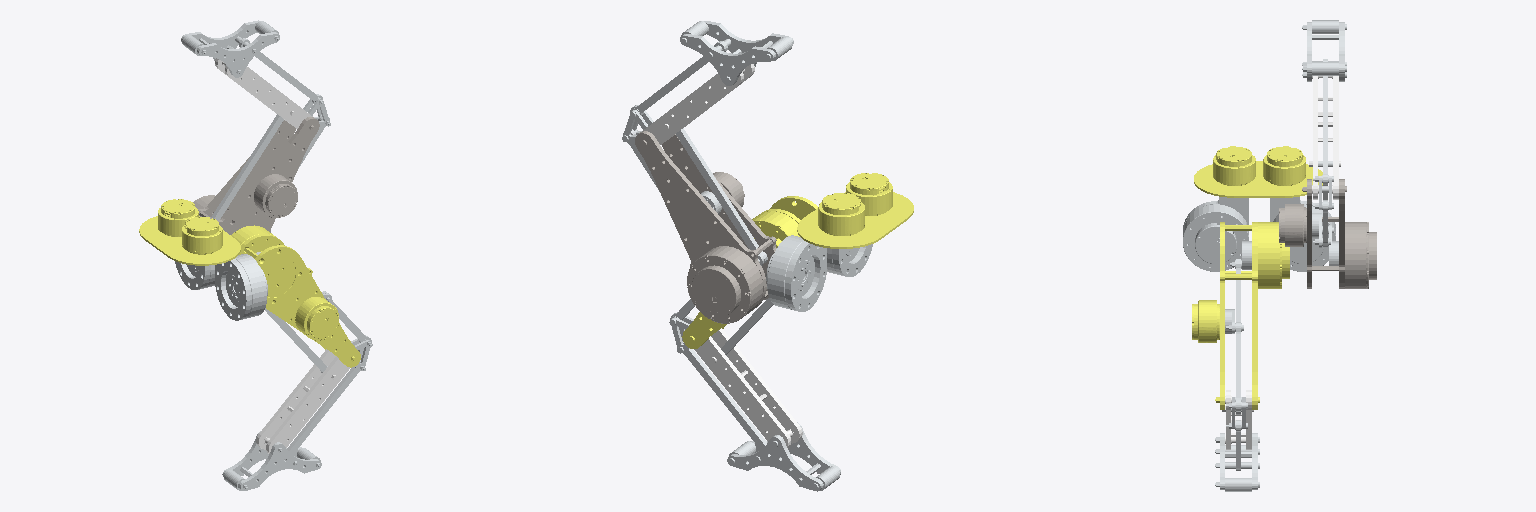
--- Render facts (derived) ---
3 views of the same robot in one strip: view 1: azimuth 30°, elevation 25°; view 2: azimuth 150°, elevation 25°; view 3: azimuth 270°, elevation 25° (orthographic).
Model Birobot2 with 29 links and 28 joints (28 revolute), rooted at base_link, posed every joint at zero.
Visible links, largest first — view 1: Rthigh_Link, Lthigh_Link, base_link, Rknee_Link0, Rhipyaw_Link, Lankle_Link0, Rankle_Link0, Lknee_Link0, Lknee_Link2, Rankle_Link4, Lhipyaw_Link, Lankle_Link4 (+1 smaller); view 2: Lthigh_Link, base_link, Rknee_Link0, Lhipyaw_Link, Lankle_Link0, Rankle_Link0, Rthigh_Link, Lknee_Link0, Lknee_Link2, Rankle_Link4, Rhipyaw_Link, Lankle_Link4 (+1 smaller); view 3: Rthigh_Link, base_link, Lthigh_Link, Rhipyaw_Link, Lankle_Link0, Rankle_Link0, Lknee_Link0, Lhipyaw_Link, Rknee_Link0, Lankle_Link4.
Boxes of the visible links, <box> form: Rthigh_Link: <box>231,225,360,367</box>; Lthigh_Link: <box>193,117,319,234</box>; base_link: <box>139,199,240,265</box>; Rknee_Link0: <box>256,349,349,453</box>; Rhipyaw_Link: <box>215,254,267,320</box>; Lankle_Link0: <box>181,20,279,77</box>; Rankle_Link0: <box>222,431,321,490</box>; Lknee_Link0: <box>215,58,312,125</box>; Lknee_Link2: <box>211,114,283,219</box>; Rankle_Link4: <box>287,360,360,454</box>; Lhipyaw_Link: <box>175,261,214,289</box>; Lankle_Link4: <box>239,38,322,103</box>; Lthigh_Link: <box>635,131,776,323</box>; base_link: <box>797,173,913,248</box>; Rknee_Link0: <box>694,328,802,447</box>; Lhipyaw_Link: <box>766,235,826,311</box>; Lankle_Link0: <box>680,21,793,85</box>; Rankle_Link0: <box>727,422,840,491</box>; Rthigh_Link: <box>682,196,817,348</box>; Lknee_Link0: <box>642,64,754,144</box>; Lknee_Link2: <box>676,128,767,262</box>; Rankle_Link4: <box>683,342,766,449</box>; Rhipyaw_Link: <box>827,244,872,276</box>; Lankle_Link4: <box>630,41,727,115</box>; Rthigh_Link: <box>1192,222,1289,409</box>; base_link: <box>1194,146,1322,197</box>; Lthigh_Link: <box>1279,179,1376,288</box>; Rhipyaw_Link: <box>1183,197,1248,271</box>; Lankle_Link0: <box>1302,20,1346,81</box>; Rankle_Link0: <box>1215,433,1259,491</box>; Lknee_Link0: <box>1309,76,1340,199</box>; Lhipyaw_Link: <box>1270,197,1335,271</box>; Rknee_Link0: <box>1222,390,1253,449</box>; Lankle_Link4: <box>1322,59,1328,184</box>.
Size in the robot's own frame: 0.3627 by 0.286 by 0.708 metres.
27 mesh visuals loaded from 29 distinct referenced files (27 binary STL); not drawn: 2 (reference not matched to a file when rendering).

The robot description file, URDF, robot "Birobot2":
<?xml version="1.0" encoding="utf-8"?>
<!-- This URDF was automatically created by SolidWorks to URDF Exporter! Originally created by Stephen Brawner ([email redacted]) 
     Commit Version: 1.6.0-4-g7f85cfe  Build Version: 1.6.7995.38578
     For more information, please see http://wiki.ros.org/sw_urdf_exporter -->
<robot
  name="Birobot2">

  <mujoco>
        <compiler 
        meshdir="../meshes/" 
        balanceinertia="true" 
        discardvisual="false" />
  </mujoco>

  <link
    name="base_link">
    <inertial>
      <origin
        xyz="5.99390134053968E-06 1.37565863127936E-06 0.0134214731182759"
        rpy="0 0 0" />
      <mass
        value="0.258330708046415" />
      <inertia
        ixx="0.000205392717372447"
        ixy="5.72794785505961E-09"
        ixz="-8.13468143023676E-08"
        iyy="0.000124376821334119"
        iyz="4.71754114620172E-10"
        izz="0.000305396326492831" />
    </inertial>
    <visual>
      <origin
        xyz="0 0 0"
        rpy="0 0 0" />
      <geometry>
        <mesh
          filename="package://Birobot2/meshes/base_link.STL" />
      </geometry>
      <material
        name="">
        <color
          rgba="1 1 0.501960784313725 1" />
      </material>
    </visual>
    <collision>
      <origin
        xyz="0 0 0"
        rpy="0 0 0" />
      <geometry>
        <mesh
          filename="package://Birobot2/meshes/base_link.STL" />
      </geometry>
    </collision>
  </link>
  <link
    name="Lhipyaw_Link">
    <inertial>
      <origin
        xyz="0.0442799756260495 0.0202466396770671 -0.054610579727696"
        rpy="0 0 0" />
      <mass
        value="0.440038994494787" />
      <inertia
        ixx="0.000691886361443098"
        ixy="-3.18926036339536E-05"
        ixz="7.9122290714126E-05"
        iyy="0.000489817105992609"
        iyz="8.51715820057588E-05"
        izz="0.000365749264198211" />
    </inertial>
    <visual>
      <origin
        xyz="0 0 0"
        rpy="0 0 0" />
      <geometry>
        <mesh
          filename="package://Birobot2/meshes/Lhipyaw_Link.STL" />
      </geometry>
      <material
        name="">
        <color
          rgba="0.898039215686275 0.917647058823529 0.929411764705882 1" />
      </material>
    </visual>
    <collision>
      <origin
        xyz="0 0 0"
        rpy="0 0 0" />
      <geometry>
        <mesh
          filename="package://Birobot2/meshes/Lhipyaw_Link.STL" />
      </geometry>
    </collision>
  </link>
  <joint
    name="Lhipyaw_Joint"
    type="revolute">
    <origin
      xyz="0 0.0369999999999999 -0.000999999999999945"
      rpy="0 0 0" />
    <parent
      link="base_link" />
    <child
      link="Lhipyaw_Link" />
    <axis
      xyz="0 0 -1" />
    <limit
      lower="0"
      upper="0"
      effort="0"
      velocity="0" />
  </joint>
  <link
    name="Lhiproll_Link">
    <inertial>
      <origin
        xyz="-7.94460344659643E-05 0.0101870947775433 -0.0643986155760032"
        rpy="0 0 0" />
      <mass
        value="0.351538870619044" />
      <inertia
        ixx="0.00033009601708043"
        ixy="-2.69015433690005E-10"
        ixz="2.34450588623238E-07"
        iyy="0.000500024436537399"
        iyz="3.36497587994521E-07"
        izz="0.000205265136778919" />
    </inertial>
    <visual>
      <origin
        xyz="0 0 0"
        rpy="0 0 0" />
      <geometry>
        <mesh
          filename="package://Birobot2/meshes/Lhiproll_Link.STL" />
      </geometry>
      <material
        name="">
        <color
          rgba="1 1 1 1" />
      </material>
    </visual>
    <collision>
      <origin
        xyz="0 0 0"
        rpy="0 0 0" />
      <geometry>
        <mesh
          filename="package://Birobot2/meshes/Lhiproll_Link.STL" />
      </geometry>
    </collision>
  </link>
  <joint
    name="Lhiproll_Joint"
    type="revolute">
    <origin
      xyz="0.0424999999999998 0.0270000000000001 -0.0679999999999998"
      rpy="0 -1.5707963267949 0" />
    <parent
      link="Lhipyaw_Link" />
    <child
      link="Lhiproll_Link" />
    <axis
      xyz="0 0 -1" />
    <limit
      lower="0"
      upper="0"
      effort="0"
      velocity="0" />
  </joint>
  <link
    name="Lthigh_Link">
    <inertial>
      <origin
        xyz="-0.0313714075140075 -0.0398928694813062 -0.0418666617621862"
        rpy="0 0 0" />
      <mass
        value="0.881225242840738" />
      <inertia
        ixx="0.00184566747511136"
        ixy="-0.00110239593138809"
        ixz="8.85130741105728E-07"
        iyy="0.00134920782992085"
        iyz="1.09468000794382E-06"
        izz="0.00313386862508158" />
    </inertial>
    <visual>
      <origin
        xyz="0 0 0"
        rpy="0 0 0" />
      <geometry>
        <mesh
          filename="package://Birobot2/meshes/Lthigh_Link.STL" />
      </geometry>
      <material
        name="">
        <color
          rgba="0.776470588235294 0.756862745098039 0.737254901960784 1" />
      </material>
    </visual>
    <collision>
      <origin
        xyz="0 0 0"
        rpy="0 0 0" />
      <geometry>
        <mesh
          filename="package://Birobot2/meshes/Lthigh_Link.STL" />
      </geometry>
    </collision>
  </link>
  <joint
    name="Lthigh_Joint"
    type="revolute">
    <origin
      xyz="0 -0.000166954779692381 -0.0772201496052748"
      rpy="1.5707963267949 -1.5707963267949 0" />
    <parent
      link="Lhiproll_Link" />
    <child
      link="Lthigh_Link" />
    <axis
      xyz="0 0 -1" />
    <limit
      lower="0"
      upper="0"
      effort="0"
      velocity="0" />
  </joint>
  <link
    name="Lknee_Link0">
    <inertial>
      <origin
        xyz="5.55111512312578E-17 0.0913612730101381 -0.0200012432084049"
        rpy="0 0 0" />
      <mass
        value="0.22379773991973" />
      <inertia
        ixx="0.000632927279636257"
        ixy="1.56828304152738E-07"
        ixz="2.92198815384956E-21"
        iyy="1.61549725403257E-05"
        iyz="-1.59879090618596E-19"
        izz="0.000645485415004075" />
    </inertial>
    <visual>
      <origin
        xyz="0 0 0"
        rpy="0 0 0" />
      <geometry>
        <mesh
          filename="package://Birobot2/meshes/Lknee_Link0.STL" />
      </geometry>
      <material
        name="">
        <color
          rgba="1 1 1 1" />
      </material>
    </visual>
    <collision>
      <origin
        xyz="0 0 0"
        rpy="0 0 0" />
      <geometry>
        <mesh
          filename="package://Birobot2/meshes/Lknee_Link0.STL" />
      </geometry>
    </collision>
  </link>
  <joint
    name="Lknee_Joint0"
    type="revolute">
    <origin
      xyz="-0.135596853600906 -0.170697080506769 -0.0531660904406152"
      rpy="3.14159265358979 0 0.803668194526438" />
    <parent
      link="Lthigh_Link" />
    <child
      link="Lknee_Link0" />
    <axis
      xyz="0 0 -1" />
    <limit
      lower="0"
      upper="0"
      effort="0"
      velocity="0" />
  </joint>
  <link
    name="Lankle_Link0">
    <inertial>
      <origin
        xyz="-0.0231596276959213 0.0212536250305395 -0.0200325883655559"
        rpy="0 0 0" />
      <mass
        value="0.18428359031599" />
      <inertia
        ixx="0.000117881352090235"
        ixy="-6.79775348356106E-05"
        ixz="4.65230337755936E-20"
        iyy="9.83454687660767E-05"
        iyz="2.52513224568675E-20"
        izz="0.000200626794325498" />
    </inertial>
    <visual>
      <origin
        xyz="0 0 0"
        rpy="0 0 0" />
      <geometry>
        <mesh
          filename="package://Birobot2/meshes/Lankle_Link0.STL" />
      </geometry>
      <material
        name="">
        <color
          rgba="0.898039215686275 0.917647058823529 0.929411764705882 1" />
      </material>
    </visual>
    <collision>
      <origin
        xyz="0 0 0"
        rpy="0 0 0" />
      <geometry>
        <mesh
          filename="package://Birobot2/meshes/Lankle_Link0.STL" />
      </geometry>
    </collision>
  </link>
  <joint
    name="Lankle_Joint0"
    type="revolute">
    <origin
      xyz="0 0.18 0"
      rpy="0 0 0" />
    <parent
      link="Lknee_Link0" />
    <child
      link="Lankle_Link0" />
    <axis
      xyz="0 0 -1" />
    <limit
      lower="0"
      upper="0"
      effort="0"
      velocity="0" />
  </joint>
  <link
    name="Lknee_Link1">
    <inertial>
      <origin
        xyz="-0.00439333540277499 -0.00125394710836006 -0.0113498370878502"
        rpy="0 0 0" />
      <mass
        value="0.0636115148670426" />
      <inertia
        ixx="1.09281100967918E-05"
        ixy="-1.81849121120284E-06"
        ixz="-1.70837071103934E-06"
        iyy="1.67803507539777E-05"
        iyz="-4.87603680739178E-07"
        izz="2.29402864022895E-05" />
    </inertial>
    <visual>
      <origin
        xyz="0 0 0"
        rpy="0 0 0" />
      <geometry>
        <mesh
          filename="package://Birobot2/meshes/Lknee_Link1.STL" />
      </geometry>
      <material
        name="">
        <color
          rgba="0.898039215686275 0.917647058823529 0.929411764705882 1" />
      </material>
    </visual>
    <collision>
      <origin
        xyz="0 0 0"
        rpy="0 0 0" />
      <geometry>
        <mesh
          filename="package://Birobot2/meshes/Lknee_Link1.STL" />
      </geometry>
    </collision>
  </link>
  <joint
    name="Lknee_Joint1"
    type="revolute">
    <origin
      xyz="0 0 -0.0586660904406152"
      rpy="-3.14159265358979 0 2.65249236104811" />
    <parent
      link="Lthigh_Link" />
    <child
      link="Lknee_Link1" />
    <axis
      xyz="0 0 -1" />
    <limit
      lower="0"
      upper="0"
      effort="0"
      velocity="0" />
  </joint>
  <link
    name="Lknee_Link2">
    <inertial>
      <origin
        xyz="0.101626362064937 -0.0229385974251411 0.000999999999999994"
        rpy="0 0 0" />
      <mass
        value="0.0607220251317532" />
      <inertia
        ixx="1.30341920335388E-05"
        ixy="5.33635937633788E-05"
        ixz="5.04395202149566E-20"
        iyy="0.000237409431624889"
        iyz="-1.1879301950546E-20"
        izz="0.000249838377270734" />
    </inertial>
    <visual>
      <origin
        xyz="0 0 0"
        rpy="0 0 0" />
      <geometry>
        <mesh
          filename="package://Birobot2/meshes/Lknee_Link2.STL" />
      </geometry>
      <material
        name="">
        <color
          rgba="0.898039215686275 0.917647058823529 0.929411764705882 1" />
      </material>
    </visual>
    <collision>
      <origin
        xyz="0 0 0"
        rpy="0 0 0" />
      <geometry>
        <mesh
          filename="package://Birobot2/meshes/Lknee_Link2.STL" />
      </geometry>
    </collision>
  </link>
  <joint
    name="Lknee_Joint2"
    type="revolute">
    <origin
      xyz="-0.0384639434646877 -0.0109783902802425 -0.0245"
      rpy="-3.14159265358979 0 -1.610592190996" />
    <parent
      link="Lknee_Link1" />
    <child
      link="Lknee_Link2" />
    <axis
      xyz="0 0 -1" />
    <limit
      lower="0"
      upper="0"
      effort="0"
      velocity="0" />
  </joint>
  <link
    name="Lknee_Link00">
    <inertial>
      <origin
        xyz="-2.22044604925031E-16 0.0560137350752595 -0.00401510689070324"
        rpy="0 0 0" />
      <mass
        value="0.212545654592" />
      <inertia
        ixx="0.000632625900754351"
        ixy="1.5682830415276E-07"
        ixz="2.9139717748976E-21"
        iyy="1.58535936584198E-05"
        iyz="-7.84167787566113E-22"
        izz="0.000645279471593949" />
    </inertial>
    <visual>
      <origin
        xyz="0 0 0"
        rpy="0 0 0" />
      <geometry>
        <mesh
          filename="package://Birobot2/meshes/Lknee_Link00.STL" />
      </geometry>
      <material
        name="">
        <color
          rgba="1 1 1 1" />
      </material>
    </visual>
    <collision>
      <origin
        xyz="0 0 0"
        rpy="0 0 0" />
      <geometry>
        <mesh
          filename="package://Birobot2/meshes/Lknee_Link00.STL" />
      </geometry>
    </collision>
  </link>
  <joint
    name="Lknee_Joint00"
    type="revolute">
    <origin
      xyz="0.212650314510188 -0.047998372250716 -0.00300000000000002"
      rpy="-3.14159265358979 0 2.82376894966191" />
    <parent
      link="Lknee_Link2" />
    <child
      link="Lknee_Link00" />
    <axis
      xyz="0 0 1" />
    <limit
      lower="0"
      upper="0"
      effort="0"
      velocity="0" />
  </joint>
  <link
    name="Lankle_Link34">
    <inertial>
      <origin
        xyz="-0.0204093624761537 -0.0112560684225899 -0.0200816798037087"
        rpy="0 0 0" />
      <mass
        value="0.0264310864589234" />
      <inertia
        ixx="3.97096074542198E-06"
        ixy="1.05879118406788E-20"
        ixz="-1.47573508041707E-21"
        iyy="3.97096074542198E-06"
        iyz="-9.64137851562625E-24"
        izz="7.59890052735323E-06" />
    </inertial>
    <visual>
      <origin
        xyz="0 0 0"
        rpy="0 0 0" />
      <geometry>
        <mesh
          filename="package://Birobot2/meshes/Lankle_Link34.STL" />
      </geometry>
      <material
        name="">
        <color
          rgba="0.898039215686275 0.917647058823529 0.929411764705882 1" />
      </material>
    </visual>
    <collision>
      <origin
        xyz="0 0 0"
        rpy="0 0 0" />
      <geometry>
        <mesh
          filename="package://Birobot2/meshes/Lankle_Link34.STL" />
      </geometry>
    </collision>
  </link>
  <joint
    name="Lankle_Joint34"
    type="revolute">
    <origin
      xyz="-0.135596853600906 -0.170697080506769 -0.0531660904406152"
      rpy="3.14159265358979 0 0.803668194526438" />
    <parent
      link="Lthigh_Link" />
    <child
      link="Lankle_Link34" />
    <axis
      xyz="0 0 -1" />
    <limit
      lower="0"
      upper="0"
      effort="0"
      velocity="0" />
  </joint>
  <link
    name="Lankle_Link1">
    <inertial>
      <origin
        xyz="0.00497530862523779 0.00135108879007165 -0.0123696487398572"
        rpy="0 0 0" />
      <mass
        value="0.0567948015231428" />
      <inertia
        ixx="8.35459871318398E-06"
        ixy="-1.69026023786498E-06"
        ixz="1.84867561298549E-06"
        iyy="1.41198821303684E-05"
        iyz="5.02024112537162E-07"
        izz="1.75229955675705E-05" />
    </inertial>
    <visual>
      <origin
        xyz="0 0 0"
        rpy="0 0 0" />
      <geometry>
        <mesh
          filename="package://Birobot2/meshes/Lankle_Link1.STL" />
      </geometry>
      <material
        name="">
        <color
          rgba="0.898039215686275 0.917647058823529 0.929411764705882 1" />
      </material>
    </visual>
    <collision>
      <origin
        xyz="0 0 0"
        rpy="0 0 0" />
      <geometry>
        <mesh
          filename="package://Birobot2/meshes/Lankle_Link1.STL" />
      </geometry>
    </collision>
  </link>
  <joint
    name="Lankle_Joint1"
    type="revolute">
    <origin
      xyz="-0.0622003915600487 -0.0783014130764995 -0.00616609044061522"
      rpy="0 0 2.65249236104811" />
    <parent
      link="Lthigh_Link" />
    <child
      link="Lankle_Link1" />
    <axis
      xyz="0 0 -1" />
    <limit
      lower="0"
      upper="0"
      effort="0"
      velocity="0" />
  </joint>
  <link
    name="Lankle_Link2">
    <inertial>
      <origin
        xyz="-0.0451240377309678 -0.0380108039753531 0.00100000000000001"
        rpy="0 0 0" />
      <mass
        value="0.0400054950366333" />
      <inertia
        ixx="1.7569895782706E-05"
        ixy="-2.00745668554044E-05"
        ixz="-1.3629548140825E-20"
        iyy="2.44910946664815E-05"
        iyz="-1.14528951036416E-20"
        izz="4.17150522558605E-05" />
    </inertial>
    <visual>
      <origin
        xyz="0 0 0"
        rpy="0 0 0" />
      <geometry>
        <mesh
          filename="package://Birobot2/meshes/Lankle_Link2.STL" />
      </geometry>
      <material
        name="">
        <color
          rgba="0.898039215686275 0.917647058823529 0.929411764705882 1" />
      </material>
    </visual>
    <collision>
      <origin
        xyz="0 0 0"
        rpy="0 0 0" />
      <geometry>
        <mesh
          filename="package://Birobot2/meshes/Lankle_Link2.STL" />
      </geometry>
    </collision>
  </link>
  <joint
    name="Lankle_Joint2"
    type="revolute">
    <origin
      xyz="0.0386019799331064 0.0104827069616605 -0.026"
      rpy="3.14159265358979 0 -1.05295193254627" />
    <parent
      link="Lankle_Link1" />
    <child
      link="Lankle_Link2" />
    <axis
      xyz="0 0 -1" />
    <limit
      lower="0"
      upper="0"
      effort="0"
      velocity="0" />
  </joint>
  <link
    name="Lankle_Link3">
    <inertial>
      <origin
        xyz="-0.0116537671271683 0.0198150832361688 0.000918320196291303"
        rpy="0 0 0" />
      <mass
        value="0.0264310864589234" />
      <inertia
        ixx="3.97096074542197E-06"
        ixy="6.14098886759368E-21"
        ixz="1.84121443092571E-21"
        iyy="3.97096074542198E-06"
        iyz="-6.63334986171782E-22"
        izz="7.59890052735323E-06" />
    </inertial>
    <visual>
      <origin
        xyz="0 0 0"
        rpy="0 0 0" />
      <geometry>
        <mesh
          filename="package://Birobot2/meshes/Lankle_Link3.STL" />
      </geometry>
      <material
        name="">
        <color
          rgba="0.898039215686275 0.917647058823529 0.929411764705882 1" />
      </material>
    </visual>
    <collision>
      <origin
        xyz="0 0 0"
        rpy="0 0 0" />
      <geometry>
        <mesh
          filename="package://Birobot2/meshes/Lankle_Link3.STL" />
      </geometry>
    </collision>
  </link>
  <joint
    name="Lankle_Joint3"
    type="revolute">
    <origin
      xyz="-0.0902480754619956 -0.0760216079506738 0"
      rpy="0 0 0.252680255142078" />
    <parent
      link="Lankle_Link2" />
    <child
      link="Lankle_Link3" />
    <axis
      xyz="0 0 -1" />
    <limit
      lower="0"
      upper="0"
      effort="0"
      velocity="0" />
  </joint>
  <link
    name="Lankle_Link4">
    <inertial>
      <origin
        xyz="-0.0404235884266395 -0.0732955449284946 0.00100000000000001"
        rpy="0 0 0" />
      <mass
        value="0.0501454226790875" />
      <inertia
        ixx="0.000110602880940475"
        ixy="-6.05495642128705E-05"
        ixz="1.39198841140206E-20"
        iyy="3.42091580202111E-05"
        iyz="2.46784788669294E-20"
        izz="0.000144317547995641" />
    </inertial>
    <visual>
      <origin
        xyz="0 0 0"
        rpy="0 0 0" />
      <geometry>
        <mesh
          filename="package://Birobot2/meshes/Lankle_Link4.STL" />
      </geometry>
      <material
        name="">
        <color
          rgba="0.898039215686275 0.917647058823529 0.929411764705882 1" />
      </material>
    </visual>
    <collision>
      <origin
        xyz="0 0 0"
        rpy="0 0 0" />
      <geometry>
        <mesh
          filename="package://Birobot2/meshes/Lankle_Link4.STL" />
      </geometry>
    </collision>
  </link>
  <joint
    name="Lankle_Joint4"
    type="revolute">
    <origin
      xyz="-0.0346410161513776 0.0200000000000001 0"
      rpy="0 0 -2.0943951023932" />
    <parent
      link="Lankle_Link3" />
    <child
      link="Lankle_Link4" />
    <axis
      xyz="0 0 -1" />
    <limit
      lower="0"
      upper="0"
      effort="0"
      velocity="0" />
  </joint>
  <link
    name="Lankle_Link00">
    <inertial>
      <origin
        xyz="0.0168326946774392 0.0204699470448799 0.00396741163444413"
        rpy="0 0 0" />
      <mass
        value="0.18428359031599" />
      <inertia
        ixx="0.000117881352090235"
        ixy="-6.79775348356106E-05"
        ixz="7.26896733291044E-20"
        iyy="9.83454687660767E-05"
        iyz="6.46242882021946E-20"
        izz="0.000200626794325498" />
    </inertial>
    <visual>
      <origin
        xyz="0 0 0"
        rpy="0 0 0" />
      <geometry>
        <mesh
          filename="package://Birobot2/meshes/Lankle_Link00.STL" />
      </geometry>
      <material
        name="">
        <color
          rgba="0.898039215686275 0.917647058823529 0.929411764705882 1" />
      </material>
    </visual>
    <collision>
      <origin
        xyz="0 0 0"
        rpy="0 0 0" />
      <geometry>
        <mesh
          filename="package://Birobot2/meshes/Lankle_Link00.STL" />
      </geometry>
    </collision>
  </link>
  <joint
    name="Lankle_Joint00"
    type="revolute">
    <origin
      xyz="-0.0869286426422058 -0.157617927560235 -0.00299999999999988"
      rpy="0 0 2.63758708122652" />
    <parent
      link="Lankle_Link4" />
    <child
      link="Lankle_Link00" />
    <axis
      xyz="0 0 -1" />
    <limit
      lower="0"
      upper="0"
      effort="0"
      velocity="0" />
  </joint>
  <link
    name="Rhipyaw_Link">
    <inertial>
      <origin
        xyz="0.0442799805671885 -0.0202555367839449 -0.0546054524894954"
        rpy="0 0 0" />
      <mass
        value="0.440038842475869" />
      <inertia
        ixx="0.000691886302275348"
        ixy="3.19656422669199E-05"
        ixz="7.90801283968309E-05"
        iyy="0.000489769895861423"
        iyz="-8.51988313496433E-05"
        izz="0.00036579641079241" />
    </inertial>
    <visual>
      <origin
        xyz="0 0 0"
        rpy="0 0 0" />
      <geometry>
        <mesh
          filename="package://Birobot2/meshes/Rhipyaw_Link.STL" />
      </geometry>
      <material
        name="">
        <color
          rgba="0.898039215686275 0.917647058823529 0.929411764705882 1" />
      </material>
    </visual>
    <collision>
      <origin
        xyz="0 0 0"
        rpy="0 0 0" />
      <geometry>
        <mesh
          filename="package://Birobot2/meshes/Rhipyaw_Link.STL" />
      </geometry>
    </collision>
  </link>
  <joint
    name="Rhipyaw_Joint"
    type="revolute">
    <origin
      xyz="0 -0.0370000000000002 -0.00100000000000017"
      rpy="0 0 0" />
    <parent
      link="base_link" />
    <child
      link="Rhipyaw_Link" />
    <axis
      xyz="0 0 -1" />
    <limit
      lower="0"
      upper="0"
      effort="0"
      velocity="0" />
  </joint>
  <link
    name="Rhiproll_Link">
    <inertial>
      <origin
        xyz="-7.11487427006384E-05 -0.0101870948289008 -0.0644084313705051"
        rpy="0 0 0" />
      <mass
        value="0.35153887139329" />
      <inertia
        ixx="0.000330042307674053"
        ixy="5.49035174286966E-08"
        ixz="2.43152307240281E-07"
        iyy="0.00050002443656033"
        iyz="-4.00865262176402E-07"
        izz="0.000205318846208455" />
    </inertial>
    <visual>
      <origin
        xyz="0 0 0"
        rpy="0 0 0" />
      <geometry>
        <mesh
          filename="package://Birobot2/meshes/Rhiproll_Link.STL" />
      </geometry>
      <material
        name="">
        <color
          rgba="1 1 1 1" />
      </material>
    </visual>
    <collision>
      <origin
        xyz="0 0 0"
        rpy="0 0 0" />
      <geometry>
        <mesh
          filename="package://Birobot2/meshes/Rhiproll_Link.STL" />
      </geometry>
    </collision>
  </link>
  <joint
    name="Rhiproll_Joint"
    type="revolute">
    <origin
      xyz="0.0424999999999994 -0.0269999999999998 -0.0679999999999999"
      rpy="0 -1.5707963267949 0" />
    <parent
      link="Rhipyaw_Link" />
    <child
      link="Rhiproll_Link" />
    <axis
      xyz="0 0 -1" />
    <limit
      lower="0"
      upper="0"
      effort="0"
      velocity="0" />
  </joint>
  <link
    name="Rthigh_Link">
    <inertial>
      <origin
        xyz="-0.0314575352195419 0.0398844834664672 -0.0418687215471447"
        rpy="0 0 0" />
      <mass
        value="0.881225241274488" />
      <inertia
        ixx="0.00184547388254446"
        ixy="0.00110337408653132"
        ixz="1.30206678759569E-06"
        iyy="0.00134940142236214"
        iyz="-1.14077155598705E-06"
        izz="0.0031338686249956" />
    </inertial>
    <visual>
      <origin
        xyz="0 0 0"
        rpy="0 0 0" />
      <geometry>
        <mesh
          filename="package://Birobot2/meshes/Rthigh_Link.STL" />
      </geometry>
      <material
        name="">
        <color
          rgba="1 1 0.501960784313725 1" />
      </material>
    </visual>
    <collision>
      <origin
        xyz="0 0 0"
        rpy="0 0 0" />
      <geometry>
        <mesh
          filename="package://Birobot2/meshes/Rthigh_Link.STL" />
      </geometry>
    </collision>
  </link>
  <joint
    name="Rthigh_Joint"
    type="revolute">
    <origin
      xyz="0 0.000166954779692419 -0.0772201496052745"
      rpy="1.5707963267949 -1.5707963267949 0" />
    <parent
      link="Rhiproll_Link" />
    <child
      link="Rthigh_Link" />
    <axis
      xyz="0 0 -1" />
    <limit
      lower="0"
      upper="0"
      effort="0"
      velocity="0" />
  </joint>
  <link
    name="Rknee_Link0">
    <inertial>
      <origin
        xyz="0 -0.0913612730101381 -0.0200012432084048"
        rpy="0 0 0" />
      <mass
        value="0.22379773991973" />
      <inertia
        ixx="0.000632927279636257"
        ixy="1.56828306381712E-07"
        ixz="1.71625643798278E-21"
        iyy="1.61549725403256E-05"
        iyz="1.59496728221719E-19"
        izz="0.000645485415004075" />
    </inertial>
    <visual>
      <origin
        xyz="0 0 0"
        rpy="0 0 0" />
      <geometry>
        <mesh
          filename="package://Birobot2/meshes/Rknee_Link0.STL" />
      </geometry>
      <material
        name="">
        <color
          rgba="1 1 1 1" />
      </material>
    </visual>
    <collision>
      <origin
        xyz="0 0 0"
        rpy="0 0 0" />
      <geometry>
        <mesh
          filename="package://Birobot2/meshes/Rknee_Link0.STL" />
      </geometry>
    </collision>
  </link>
  <joint
    name="Rknee_Joint0"
    type="revolute">
    <origin
      xyz="-0.135596853600907 0.170697080506769 -0.0531660904406152"
      rpy="-3.14159265358979 0 -0.803668194526438" />
    <parent
      link="Rthigh_Link" />
    <child
      link="Rknee_Link0" />
    <axis
      xyz="0 0 -1" />
    <limit
      lower="0"
      upper="0"
      effort="0"
      velocity="0" />
  </joint>
  <link
    name="Rankle_Link0">
    <inertial>
      <origin
        xyz="-0.0231596276959213 -0.0212536250305394 -0.0200325883655559"
        rpy="0 0 0" />
      <mass
        value="0.18428359031599" />
      <inertia
        ixx="0.000117881352090235"
        ixy="6.79775348356108E-05"
        ixz="-3.85611366079624E-20"
        iyy="9.83454687660769E-05"
        iyz="-7.34200375505124E-20"
        izz="0.000200626794325499" />
    </inertial>
    <visual>
      <origin
        xyz="0 0 0"
        rpy="0 0 0" />
      <geometry>
        <mesh
          filename="package://Birobot2/meshes/Rankle_Link0.STL" />
      </geometry>
      <material
        name="">
        <color
          rgba="0.898039215686275 0.917647058823529 0.929411764705882 1" />
      </material>
    </visual>
    <collision>
      <origin
        xyz="0 0 0"
        rpy="0 0 0" />
      <geometry>
        <mesh
          filename="package://Birobot2/meshes/Rankle_Link0.STL" />
      </geometry>
    </collision>
  </link>
  <joint
    name="Rankle_Joint0"
    type="revolute">
    <origin
      xyz="0 -0.18 0"
      rpy="0 0 0" />
    <parent
      link="Rknee_Link0" />
    <child
      link="Rankle_Link0" />
    <axis
      xyz="0 0 -1" />
    <limit
      lower="0"
      upper="0"
      effort="0"
      velocity="0" />
  </joint>
  <link
    name="Rknee_Link1">
    <inertial>
      <origin
        xyz="-0.00439333540277497 0.00125394710836006 -0.0113498370878502"
        rpy="0 0 0" />
      <mass
        value="0.0636115148670426" />
      <inertia
        ixx="1.09281100967919E-05"
        ixy="1.81849121120302E-06"
        ixz="-1.70837071103934E-06"
        iyy="1.67803507539775E-05"
        iyz="4.87603680739183E-07"
        izz="2.29402864022895E-05" />
    </inertial>
    <visual>
      <origin
        xyz="0 0 0"
        rpy="0 0 0" />
      <geometry>
        <mesh
          filename="package://Birobot2/meshes/Rknee_Link1.STL" />
      </geometry>
      <material
        name="">
        <color
          rgba="0.898039215686275 0.917647058823529 0.929411764705882 1" />
      </material>
    </visual>
    <collision>
      <origin
        xyz="0 0 0"
        rpy="0 0 0" />
      <geometry>
        <mesh
          filename="package://Birobot2/meshes/Rknee_Link1.STL" />
      </geometry>
    </collision>
  </link>
  <joint
    name="Rknee_Joint1"
    type="revolute">
    <origin
      xyz="0 0 -0.0586660904406152"
      rpy="3.14159265358979 0 -2.65249236104811" />
    <parent
      link="Rthigh_Link" />
    <child
      link="Rknee_Link1" />
    <axis
      xyz="0 0 -1" />
    <limit
      lower="0"
      upper="0"
      effort="0"
      velocity="0" />
  </joint>
  <link
    name="Rknee_Link2">
    <inertial>
      <origin
        xyz="0.0959229513432991 0.0216512518994762 0.00100000000000003"
        rpy="0 0 0" />
      <mass
        value="0.0607220251317533" />
      <inertia
        ixx="1.30341920335387E-05"
        ixy="-5.33635937633787E-05"
        ixz="5.39812818276047E-20"
        iyy="0.00023740943162489"
        iyz="1.32103254849298E-20"
        izz="0.000249838377270734" />
    </inertial>
    <visual>
      <origin
        xyz="0 0 0"
        rpy="0 0 0" />
      <geometry>
        <mesh
          filename="package://Birobot2/meshes/Rknee_Link2.STL" />
      </geometry>
      <material
        name="">
        <color
          rgba="0.898039215686275 0.917647058823529 0.929411764705882 1" />
      </material>
    </visual>
    <collision>
      <origin
        xyz="0 0 0"
        rpy="0 0 0" />
      <geometry>
        <mesh
          filename="package://Birobot2/meshes/Rknee_Link2.STL" />
      </geometry>
    </collision>
  </link>
  <joint
    name="Rknee_Joint2"
    type="revolute">
    <origin
      xyz="-0.0384639434646876 0.0109783902802427 -0.0245"
      rpy="3.14159265358979 0 1.610592190996" />
    <parent
      link="Rknee_Link1" />
    <child
      link="Rknee_Link2" />
    <axis
      xyz="0 0 -1" />
    <limit
      lower="0"
      upper="0"
      effort="0"
      velocity="0" />
  </joint>
  <link
    name="Rknee_Link00">
    <inertial>
      <origin
        xyz="-2.22044604925031E-16 -0.0513612730101349 -0.00400124320840478"
        rpy="0 0 0" />
      <mass
        value="0.22379773991973" />
      <inertia
        ixx="0.000632927279636257"
        ixy="1.56828306381692E-07"
        ixz="1.75579929631321E-21"
        iyy="1.61549725403256E-05"
        iyz="3.71869690632966E-22"
        izz="0.000645485415004075" />
    </inertial>
    <visual>
      <origin
        xyz="0 0 0"
        rpy="0 0 0" />
      <geometry>
        <mesh
          filename="package://Birobot2/meshes/Rknee_Link00.STL" />
      </geometry>
      <material
        name="">
        <color
          rgba="1 1 1 1" />
      </material>
    </visual>
    <collision>
      <origin
        xyz="0 0 0"
        rpy="0 0 0" />
      <geometry>
        <mesh
          filename="package://Birobot2/meshes/Rknee_Link00.STL" />
      </geometry>
    </collision>
  </link>
  <joint
    name="Rknee_Joint00"
    type="revolute">
    <origin
      xyz="0.212650314510188 0.0479983722507159 -0.003"
      rpy="3.14159265358979 0 -2.82376894966191" />
    <parent
      link="Rknee_Link2" />
    <child
      link="Rknee_Link00" />
    <axis
      xyz="0 0 1" />
    <limit
      lower="0"
      upper="0"
      effort="0"
      velocity="0" />
  </joint>
  <link
    name="Rankle_Link34">
    <inertial>
      <origin
        xyz="-0.0204093624761538 0.0112560684225899 -0.0200816798037087"
        rpy="0 0 0" />
      <mass
        value="0.0264310864589234" />
      <inertia
        ixx="3.97096074542197E-06"
        ixy="-6.14098886759368E-21"
        ixz="-9.17426403478248E-22"
        iyy="3.97096074542199E-06"
        iyz="2.14870781331448E-22"
        izz="7.59890052735324E-06" />
    </inertial>
    <visual>
      <origin
        xyz="0 0 0"
        rpy="0 0 0" />
      <geometry>
        <mesh
          filename="package://Birobot2/meshes/Rankle_Link34.STL" />
      </geometry>
      <material
        name="">
        <color
          rgba="0.898039215686275 0.917647058823529 0.929411764705882 1" />
      </material>
    </visual>
    <collision>
      <origin
        xyz="0 0 0"
        rpy="0 0 0" />
      <geometry>
        <mesh
          filename="package://Birobot2/meshes/Rankle_Link34.STL" />
      </geometry>
    </collision>
  </link>
  <joint
    name="Rankle_Joint34"
    type="revolute">
    <origin
      xyz="-0.135596853600907 0.170697080506769 -0.0531660904406152"
      rpy="-3.14159265358979 0 -0.803668194526438" />
    <parent
      link="Rthigh_Link" />
    <child
      link="Rankle_Link34" />
    <axis
      xyz="0 0 -1" />
    <limit
      lower="0"
      upper="0"
      effort="0"
      velocity="0" />
  </joint>
  <link
    name="Rankle_Link1">
    <inertial>
      <origin
        xyz="0.00497530862523785 -0.00135108879007159 -0.0123696487398572"
        rpy="0 0 0" />
      <mass
        value="0.0567948015231428" />
      <inertia
        ixx="8.35459871318397E-06"
        ixy="1.69026023786495E-06"
        ixz="1.8486756129855E-06"
        iyy="1.41198821303684E-05"
        iyz="-5.02024112537153E-07"
        izz="1.75229955675705E-05" />
    </inertial>
    <visual>
      <origin
        xyz="0 0 0"
        rpy="0 0 0" />
      <geometry>
        <mesh
          filename="package://Birobot2/meshes/Rankle_Link1.STL" />
      </geometry>
      <material
        name="">
        <color
          rgba="0.898039215686275 0.917647058823529 0.929411764705882 1" />
      </material>
    </visual>
    <collision>
      <origin
        xyz="0 0 0"
        rpy="0 0 0" />
      <geometry>
        <mesh
          filename="package://Birobot2/meshes/Rankle_Link1.STL" />
      </geometry>
    </collision>
  </link>
  <joint
    name="Rankle_Joint1"
    type="revolute">
    <origin
      xyz="-0.0622003915600491 0.0783014130764996 -0.00616609044061517"
      rpy="0 0 -2.65249236104811" />
    <parent
      link="Rthigh_Link" />
    <child
      link="Rankle_Link1" />
    <axis
      xyz="0 0 -1" />
    <limit
      lower="0"
      upper="0"
      effort="0"
      velocity="0" />
  </joint>
  <link
    name="Rankle_Link2">
    <inertial>
      <origin
        xyz="-0.0451240377309678 0.0380108039753531 0.00100000000000003"
        rpy="0 0 0" />
      <mass
        value="0.0400054950366333" />
      <inertia
        ixx="1.7569895782706E-05"
        ixy="2.00745668554044E-05"
        ixz="-1.44764842178641E-20"
        iyy="2.44910946664815E-05"
        iyz="1.18601250773845E-20"
        izz="4.17150522558605E-05" />
    </inertial>
    <visual>
      <origin
        xyz="0 0 0"
        rpy="0 0 0" />
      <geometry>
        <mesh
          filename="package://Birobot2/meshes/Rankle_Link2.STL" />
      </geometry>
      <material
        name="">
        <color
          rgba="0.898039215686275 0.917647058823529 0.929411764705882 1" />
      </material>
    </visual>
    <collision>
      <origin
        xyz="0 0 0"
        rpy="0 0 0" />
      <geometry>
        <mesh
          filename="package://Birobot2/meshes/Rankle_Link2.STL" />
      </geometry>
    </collision>
  </link>
  <joint
    name="Rankle_Joint2"
    type="revolute">
    <origin
      xyz="0.0386019799331065 -0.0104827069616604 -0.026"
      rpy="-3.14159265358979 0 1.05295193254627" />
    <parent
      link="Rankle_Link1" />
    <child
      link="Rankle_Link2" />
    <axis
      xyz="0 0 -1" />
    <limit
      lower="0"
      upper="0"
      effort="0"
      velocity="0" />
  </joint>
  <link
    name="Rankle_Link3">
    <inertial>
      <origin
        xyz="-0.0116537671271683 -0.0198150832361686 0.000918320196291345"
        rpy="0 0 0" />
      <mass
        value="0.0264310864589234" />
      <inertia
        ixx="3.97096074542197E-06"
        ixy="5.50571415715295E-21"
        ixz="2.42530337868542E-21"
        iyy="3.97096074542199E-06"
        iyz="5.49979491508164E-22"
        izz="7.59890052735324E-06" />
    </inertial>
    <visual>
      <origin
        xyz="0 0 0"
        rpy="0 0 0" />
      <geometry>
        <mesh
          filename="package://Birobot2/meshes/Rankle_Link3.STL" />
      </geometry>
      <material
        name="">
        <color
          rgba="0.898039215686275 0.917647058823529 0.929411764705882 1" />
      </material>
    </visual>
    <collision>
      <origin
        xyz="0 0 0"
        rpy="0 0 0" />
      <geometry>
        <mesh
          filename="package://Birobot2/meshes/Rankle_Link3.STL" />
      </geometry>
    </collision>
  </link>
  <joint
    name="Rankle_Joint3"
    type="revolute">
    <origin
      xyz="-0.0902480754619956 0.0760216079506738 0"
      rpy="0 0 -0.252680255142078" />
    <parent
      link="Rankle_Link2" />
    <child
      link="Rankle_Link3" />
    <axis
      xyz="0 0 -1" />
    <limit
      lower="0"
      upper="0"
      effort="0"
      velocity="0" />
  </joint>
  <link
    name="Rankle_Link4">
    <inertial>
      <origin
        xyz="-0.0404235884266397 0.0732955449284944 0.001"
        rpy="0 0 0" />
      <mass
        value="0.0501454226790876" />
      <inertia
        ixx="0.000110602880940475"
        ixy="6.05495642128708E-05"
        ixz="1.34553768123227E-20"
        iyy="3.42091580202114E-05"
        iyz="-2.46531490447298E-20"
        izz="0.000144317547995641" />
    </inertial>
    <visual>
      <origin
        xyz="0 0 0"
        rpy="0 0 0" />
      <geometry>
        <mesh
          filename="package://Birobot2/meshes/Rankle_Link4.STL" />
      </geometry>
      <material
        name="">
        <color
          rgba="0.898039215686275 0.917647058823529 0.929411764705882 1" />
      </material>
    </visual>
    <collision>
      <origin
        xyz="0 0 0"
        rpy="0 0 0" />
      <geometry>
        <mesh
          filename="package://Birobot2/meshes/Rankle_Link4.STL" />
      </geometry>
    </collision>
  </link>
  <joint
    name="Rankle_Joint4"
    type="revolute">
    <origin
      xyz="-0.0346410161513776 -0.0200000000000001 0"
      rpy="0 0 2.09439510239319" />
    <parent
      link="Rankle_Link3" />
    <child
      link="Rankle_Link4" />
    <axis
      xyz="0 0 -1" />
    <limit
      lower="0"
      upper="0"
      effort="0"
      velocity="0" />
  </joint>
  <link
    name="Rankle_Link00">
    <inertial>
      <origin
        xyz="0.016832694677439 -0.02046994704488 0.00396741163444414"
        rpy="0 0 0" />
      <mass
        value="0.18428359031599" />
      <inertia
        ixx="0.000117881352090235"
        ixy="6.79775348356107E-05"
        ixz="-1.23961492381618E-20"
        iyy="9.83454687660769E-05"
        iyz="-1.12779371794672E-19"
        izz="0.000200626794325499" />
    </inertial>
    <visual>
      <origin
        xyz="0 0 0"
        rpy="0 0 0" />
      <geometry>
        <mesh
          filename="package://Birobot2/meshes/Rankle_Link00.STL" />
      </geometry>
      <material
        name="">
        <color
          rgba="0.898039215686275 0.917647058823529 0.929411764705882 1" />
      </material>
    </visual>
    <collision>
      <origin
        xyz="0 0 0"
        rpy="0 0 0" />
      <geometry>
        <mesh
          filename="package://Birobot2/meshes/Rankle_Link00.STL" />
      </geometry>
    </collision>
  </link>
  <joint
    name="Rankle_Joint00"
    type="revolute">
    <origin
      xyz="-0.0869286426422063 0.157617927560235 -0.00299999999999989"
      rpy="0 0 -2.63758708122652" />
    <parent
      link="Rankle_Link4" />
    <child
      link="Rankle_Link00" />
    <axis
      xyz="0 0 -1" />
    <limit
      lower="0"
      upper="0"
      effort="0"
      velocity="0" />
  </joint>
</robot>
